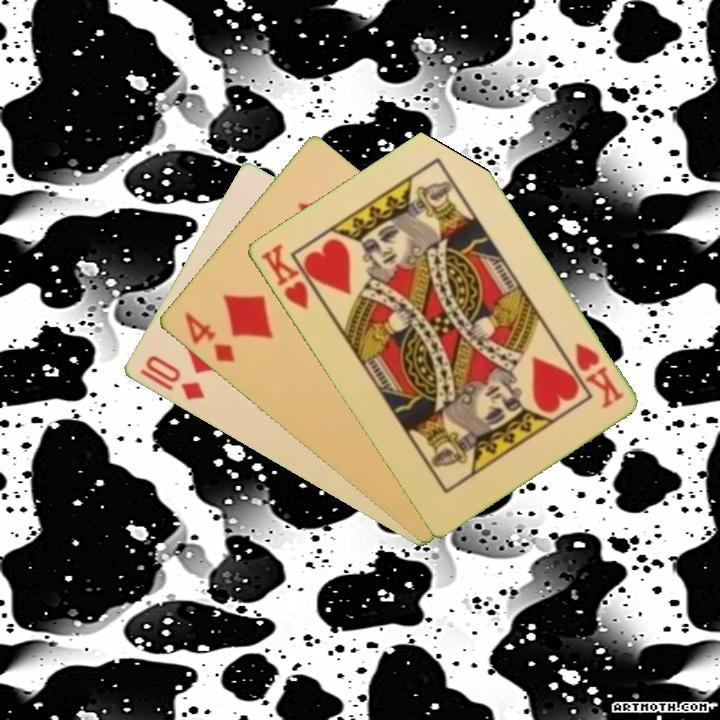10d: (141, 352, 208, 404)
4d: (180, 308, 237, 366)
Kh: (256, 240, 325, 313), (571, 339, 626, 412)
